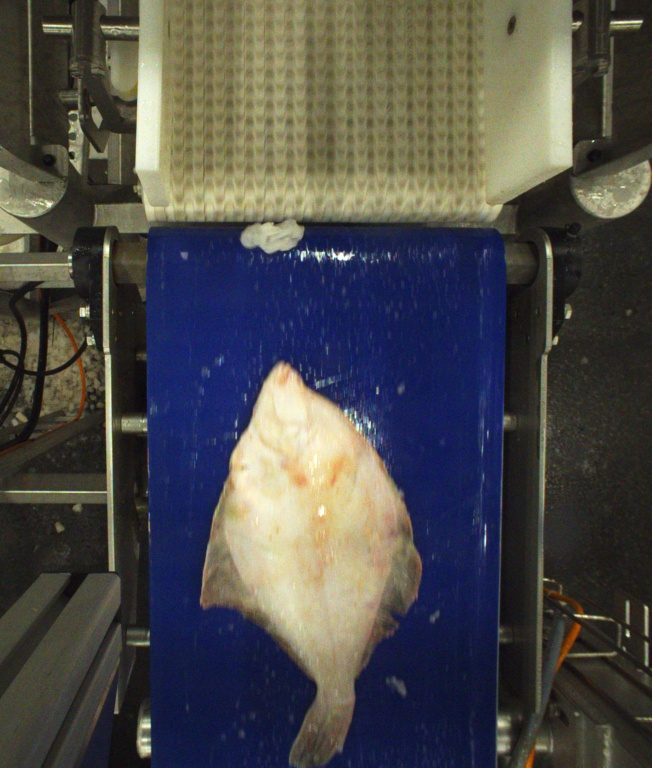PLE: (199, 360, 427, 768)
